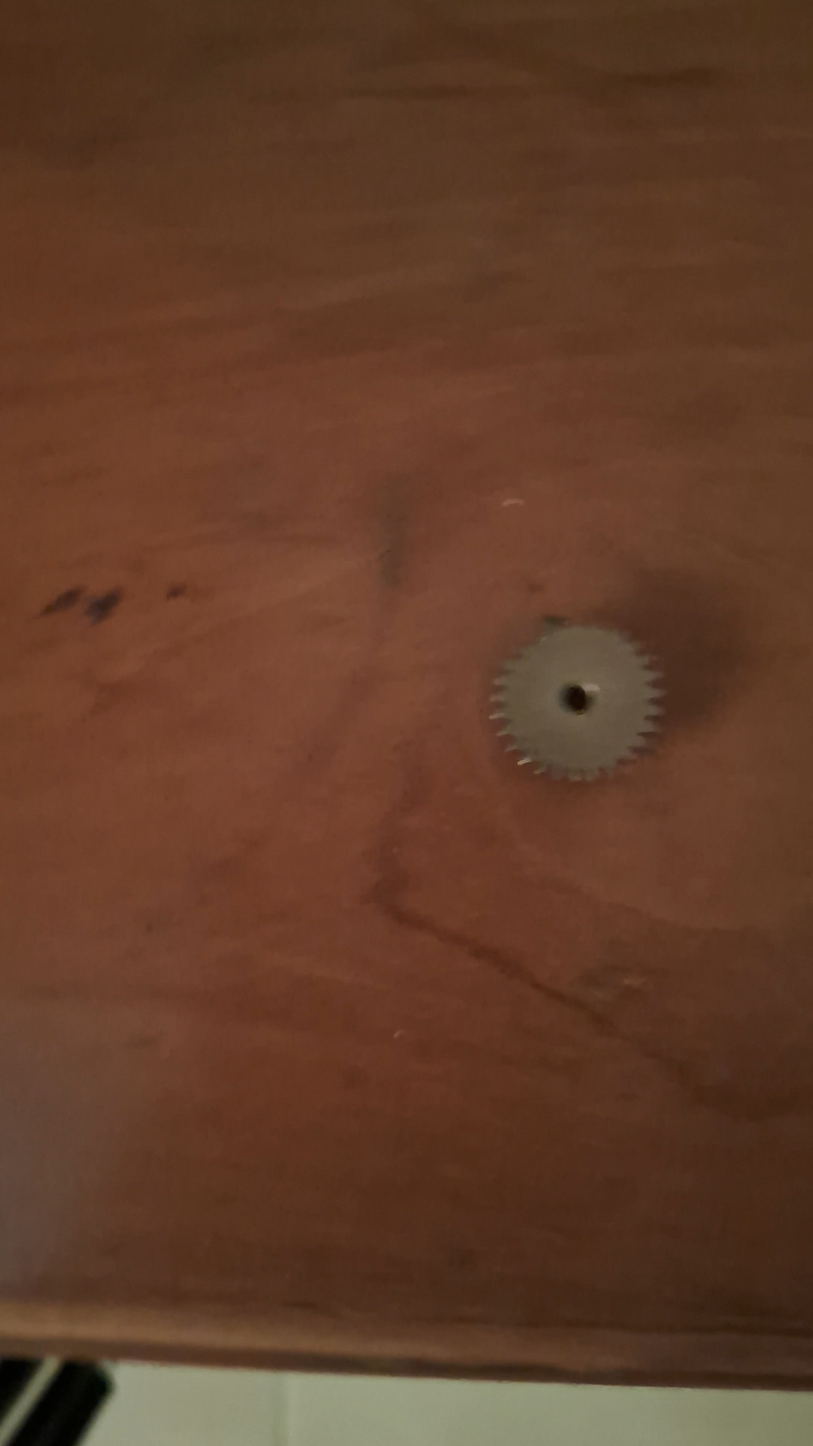spur gear: (492, 622, 662, 780)
